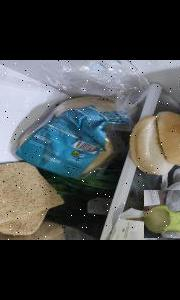Brocoli: (143, 190, 180, 238)
